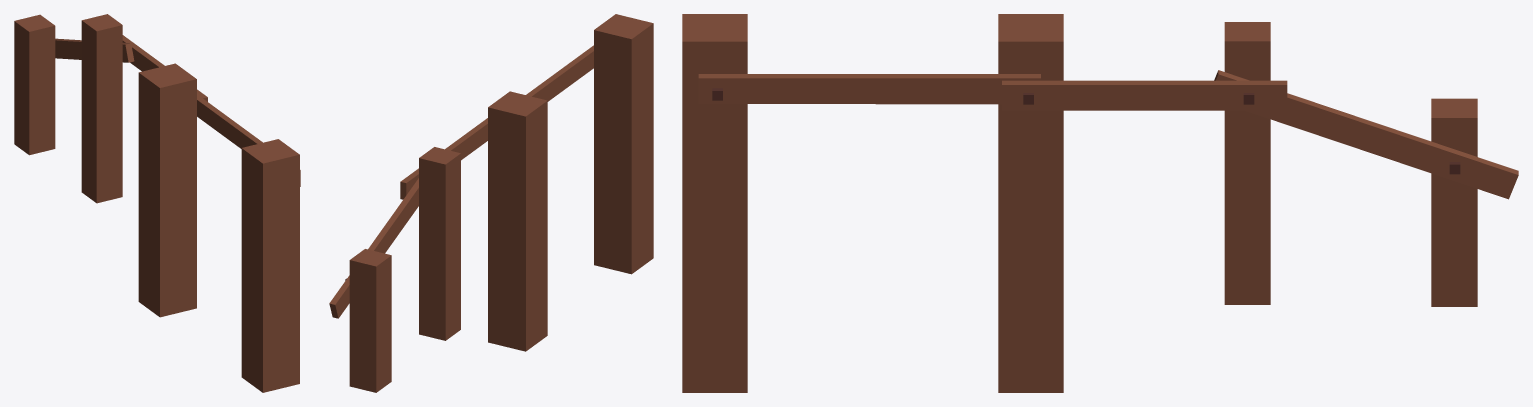
The model's file is landing_ rallings_1.fbx.
3 views of the same model, side by side, from view 1: azimuth 30°, elevation 25°; view 2: azimuth 150°, elevation 25°; view 3: azimuth 270°, elevation 25° (orthographic). The views are drawn at different scales.
Parts seen in each view (by area): view 1: pier railings 2; view 2: pier railings 2; view 3: pier railings 2.
Boxes of the visible parts, x1,y1,x2,y2 form: pier railings 2: [14, 14, 300, 392]; pier railings 2: [329, 14, 653, 392]; pier railings 2: [682, 14, 1518, 392].
Size of the model in its own units: 19.49 by 81.99 by 177.
